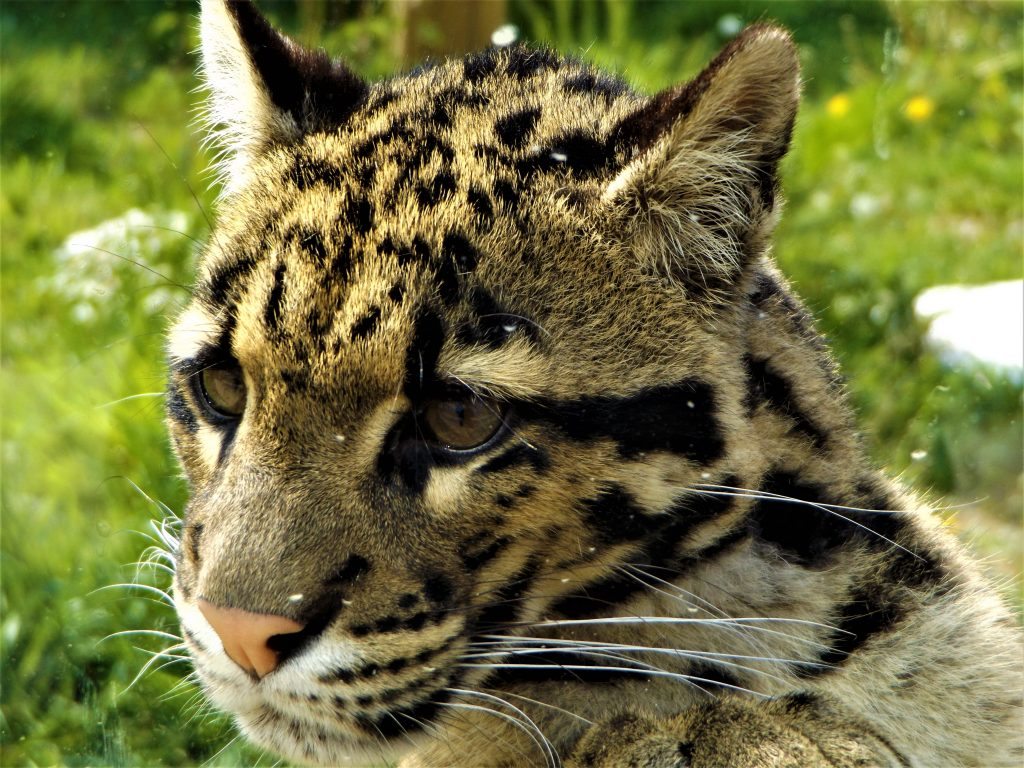cat: (153, 1, 1024, 766)
